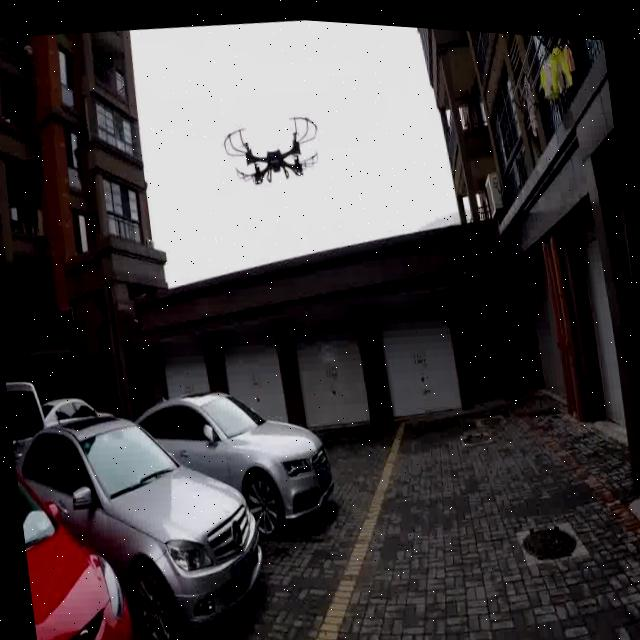drone: (216, 93, 336, 197)
